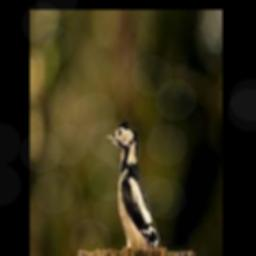Woodpecker: (105, 122, 160, 248)
